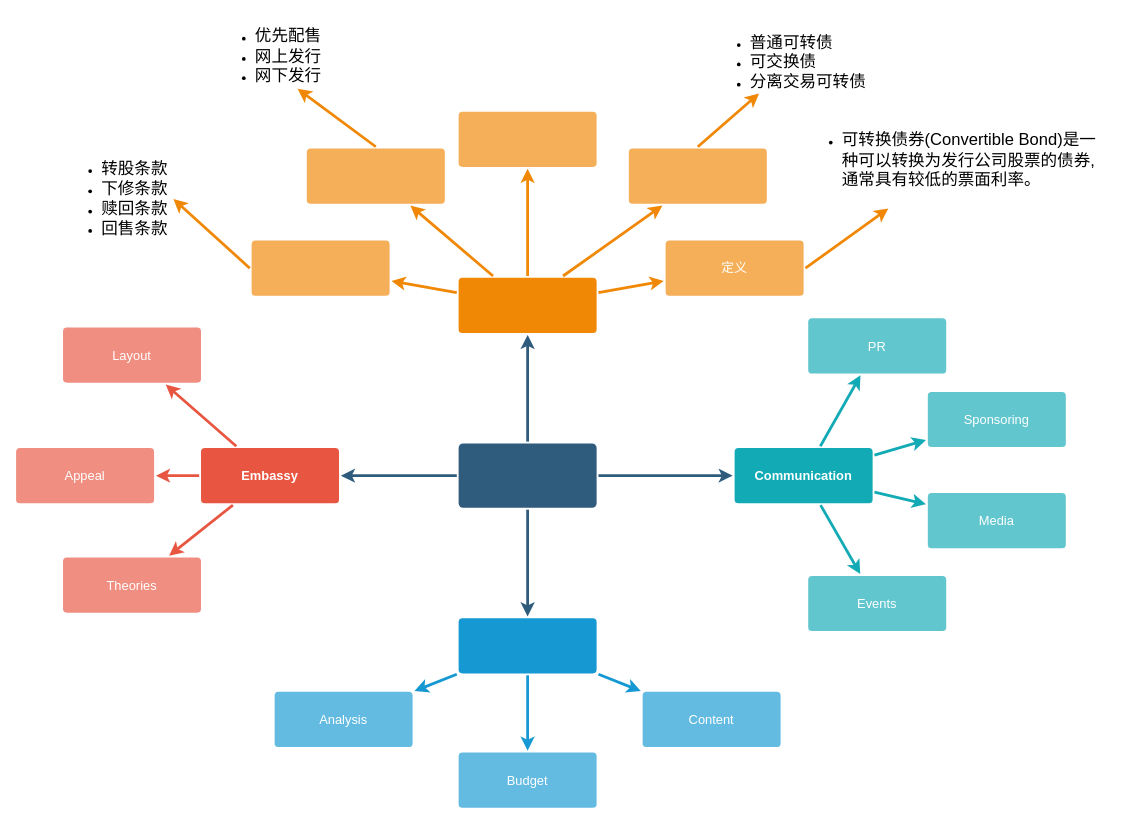
The diagram is 1122 pixels wide and 823 high, and some of its shapes have lost their labels. Here are the shapes that lost their labels. From the top down, the centre of each, then its label:
At (375,175): "发行方式".
At (697,175): "主要类型".
At (320,267): "重要条款".
At (527,305): "概况".
At (527,475): "可转债".
At (527,645): "Organization".
